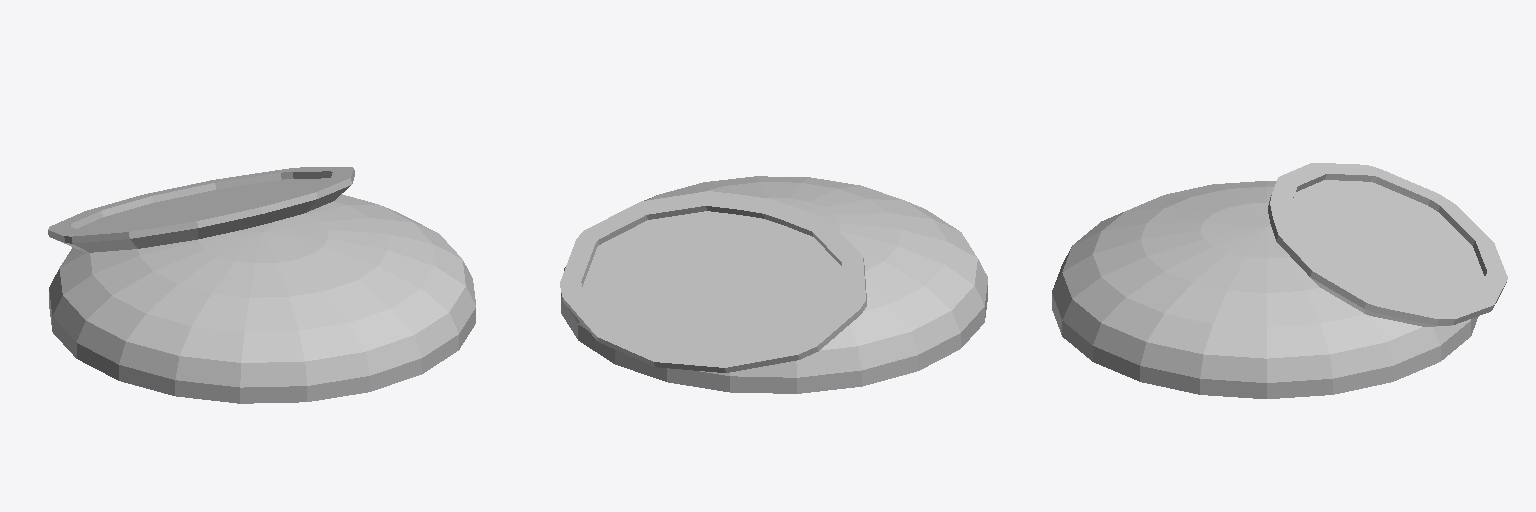
File: TV_BOTTOM.obj
The picture shows the model from 3 angles: view 1: azimuth 30°, elevation 25°; view 2: azimuth 150°, elevation 25°; view 3: azimuth 270°, elevation 25°; orthographic projection.
Parts seen in each view (by area): view 1: pSphere1; view 2: pSphere1; view 3: pSphere1.
Boxes of the visible parts, box(x1,y1,x2,y2) form: pSphere1: box(48, 167, 475, 403); pSphere1: box(560, 176, 987, 393); pSphere1: box(1052, 163, 1507, 398).
Bounding box in the file's own units: 60 × 16.2 × 63.72.